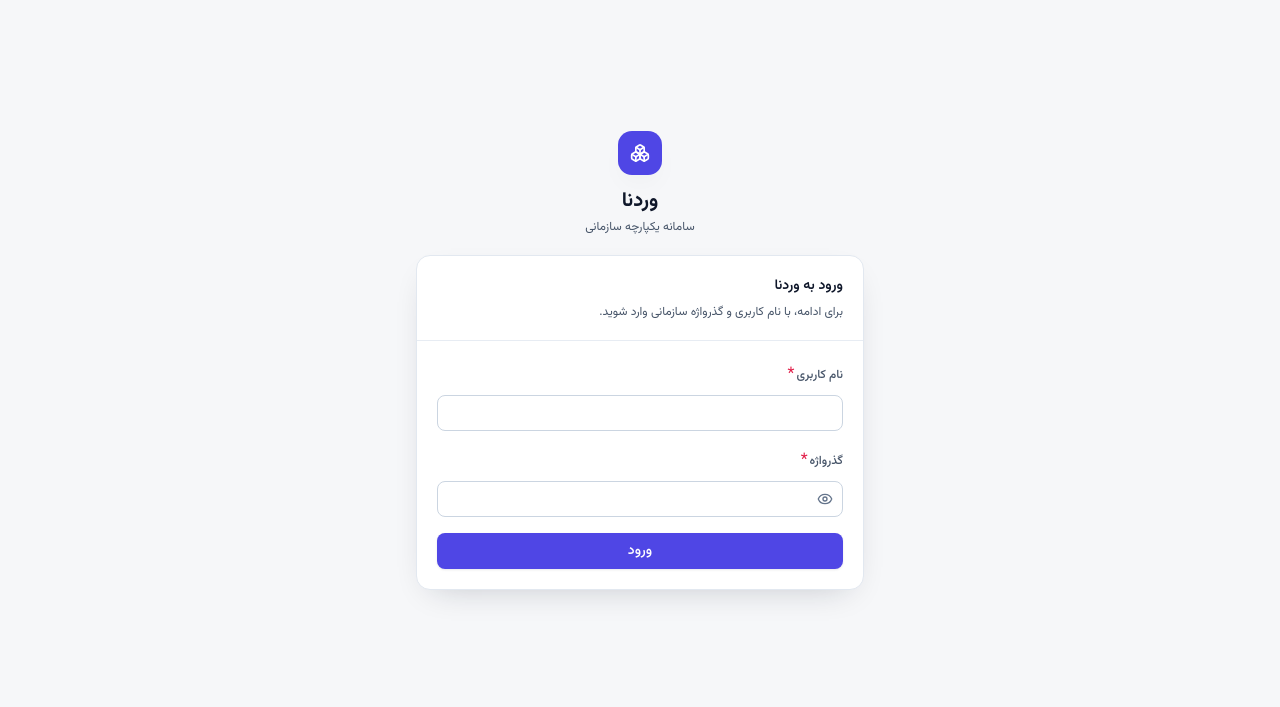
Test case: login flow › returns to the deep-linked route after logging in
This screenshot has width=1280, height=707.
Type "accountant" into the field labelled "نام کاربری" at (640, 412), box x1=437 y1=394 x2=843 y2=430
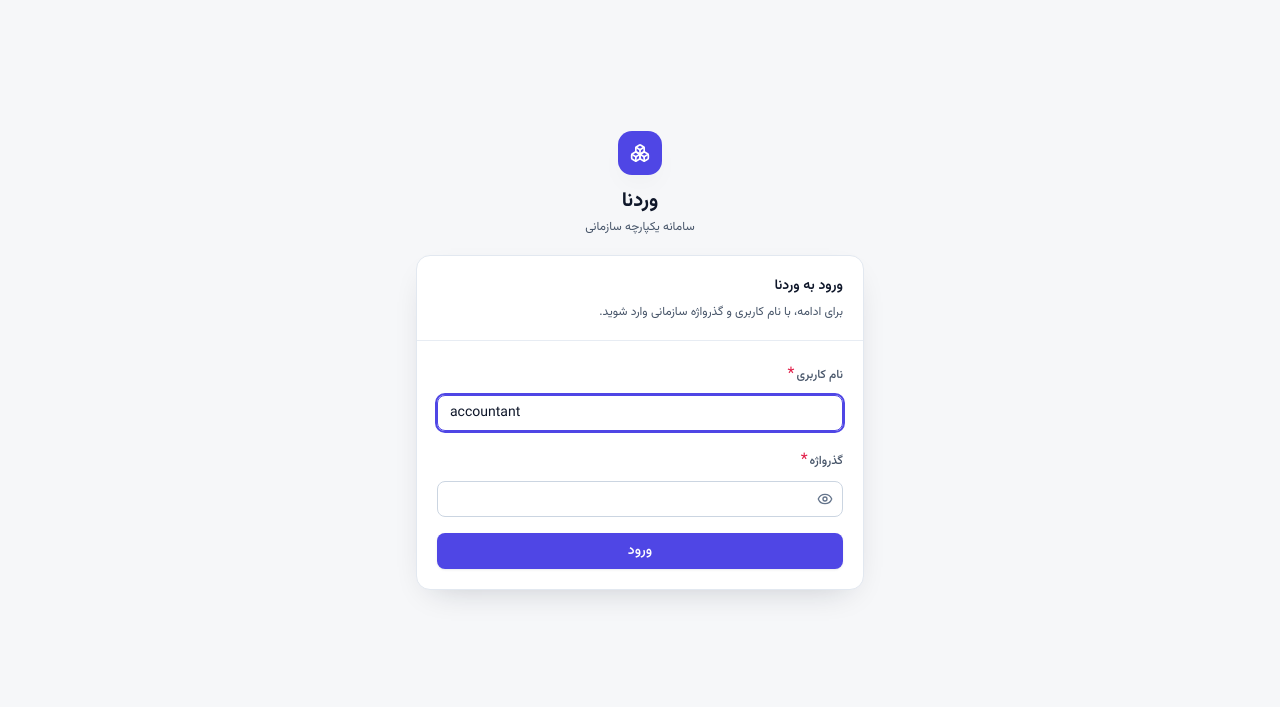
Type "correct-password" into the password field labelled "گذرواژه" at (640, 498), box x1=437 y1=480 x2=843 y2=516
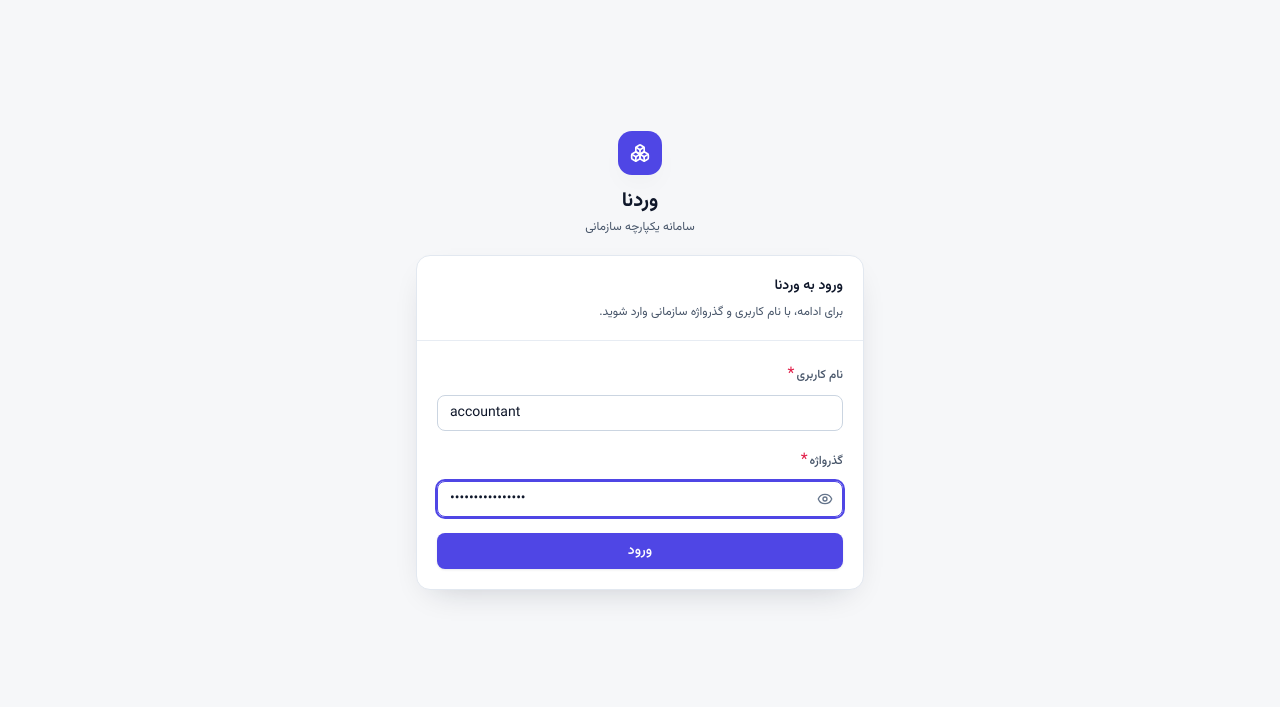
Click the button "ورود" at (640, 550), box x1=437 y1=532 x2=843 y2=568
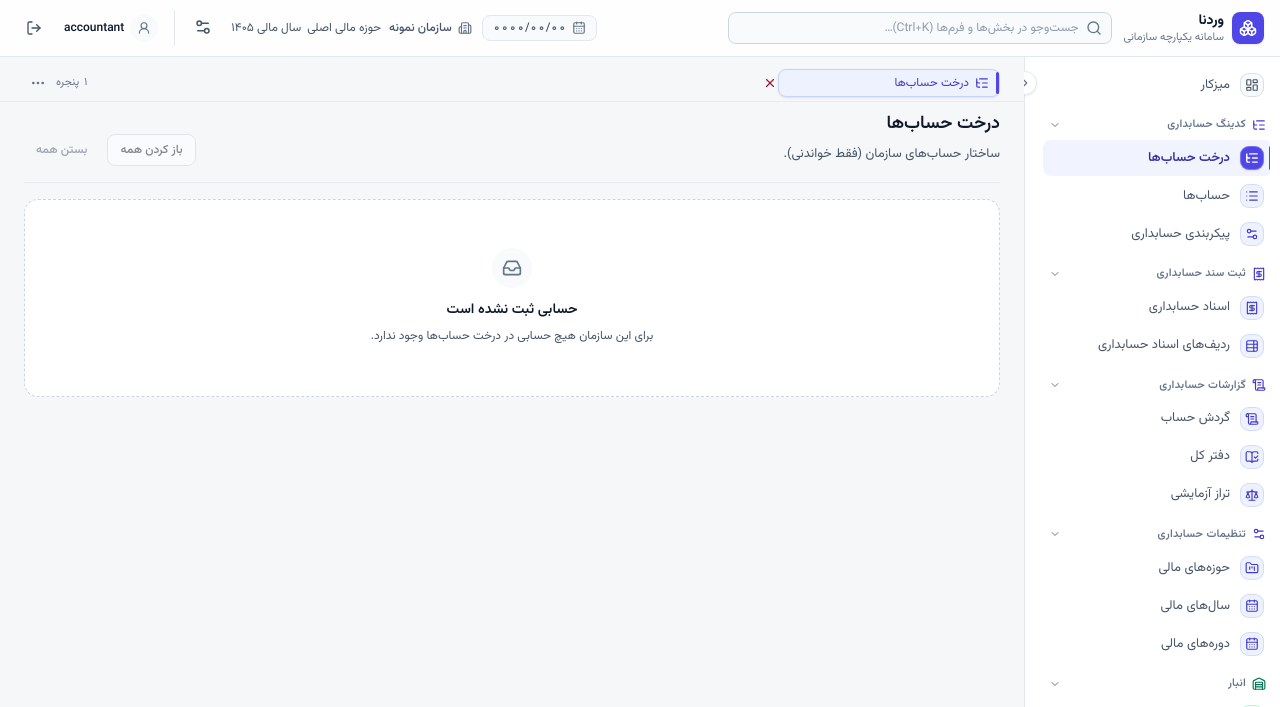
Result: the heading "درخت حساب‌ها" is shown at x1=886 y1=110 x2=1000 y2=138
